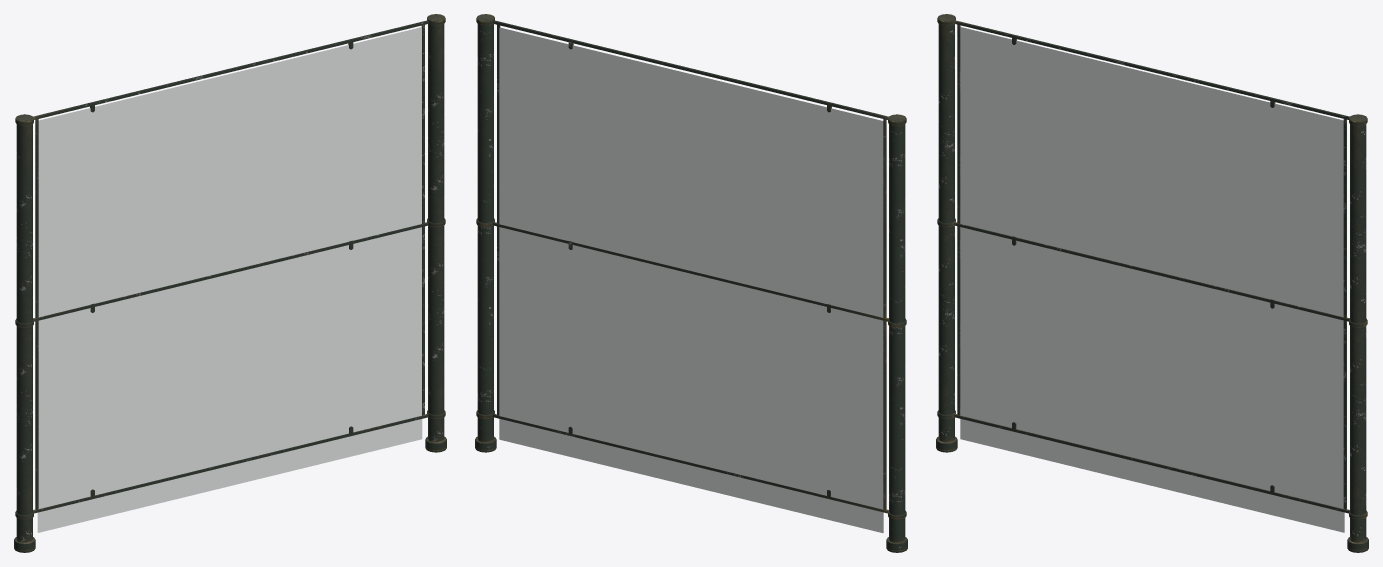
File: SM_Fence_Exterior_Tops.fbx
3 renders of one model, left to right at view 1: azimuth 30°, elevation 25°; view 2: azimuth 150°, elevation 25°; view 3: azimuth 330°, elevation 25°, orthographic.
Visible parts, largest first — view 1: SM_Fence_Exterior_Tops; view 2: SM_Fence_Exterior_Tops; view 3: SM_Fence_Exterior_Tops.
Part boxes in pixels (left/top/right/bottom): SM_Fence_Exterior_Tops: left=14, top=14, right=446, bottom=552; SM_Fence_Exterior_Tops: left=475, top=14, right=907, bottom=552; SM_Fence_Exterior_Tops: left=936, top=14, right=1368, bottom=552.
Bounding box in the file's own units: 366 × 15.92 × 350.
Materials: 1 (1 with a texture image).
